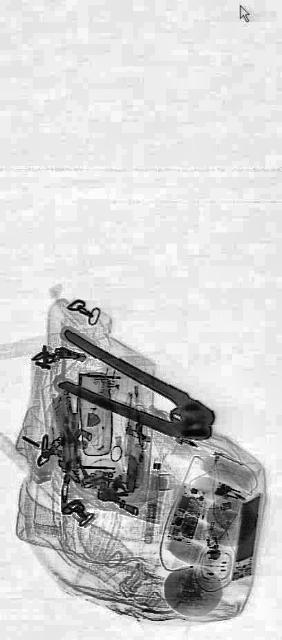Pliers: (58, 328, 216, 457)
